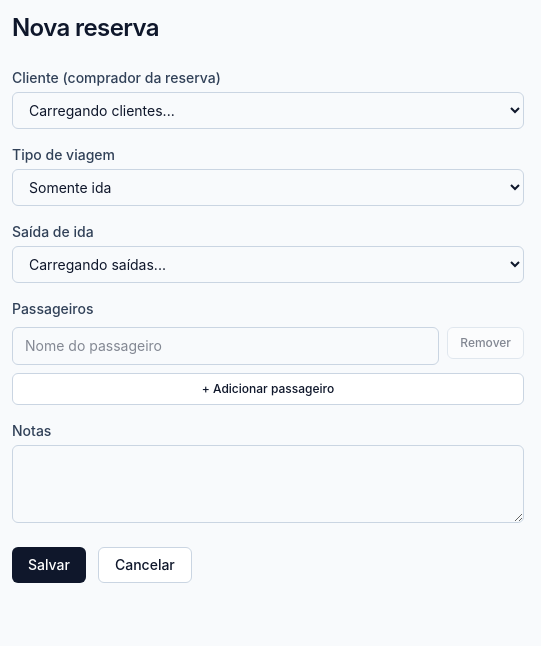
BookingFormPage › supports adding and removing passenger fields, enforcing at least one
Check: the dropdown labelled "Cliente (comprador da reserva)" is shown, box [12,92,524,129]
Check: the number of fields with placeholder "Nome do passageiro" is 1, box [12,327,439,365]
Click the button "+ Adicionar passageiro": (268, 389) [12,373,524,405]
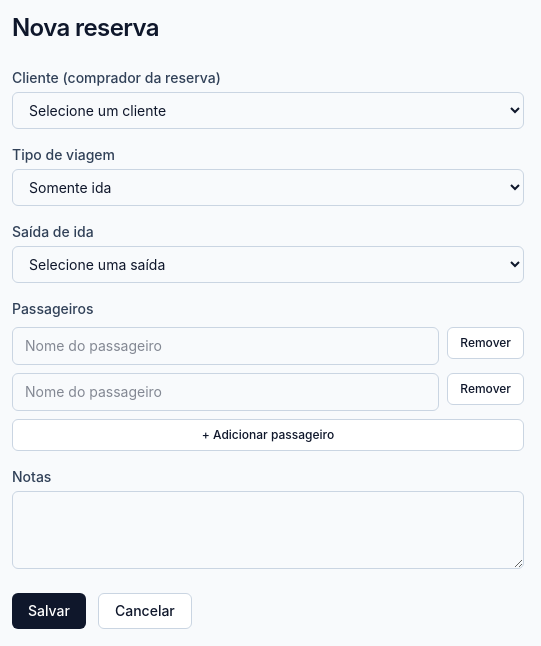
Check: the number of fields with placeholder "Nome do passageiro" is 2, box [12,327,439,365]; [12,373,439,411]
Click the 1st button "Remover": (486, 343) [447,327,524,359]
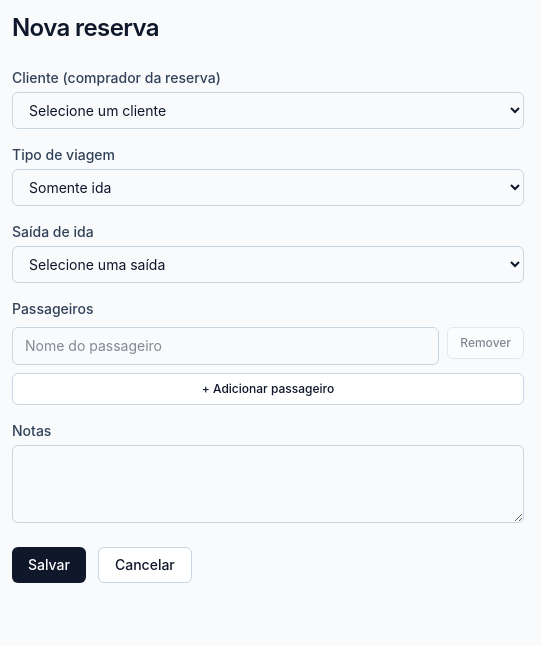
Check: the number of fields with placeholder "Nome do passageiro" is 1, box [12,327,439,365]
Check: the button "Remover" is disabled, box [447,327,524,359]
